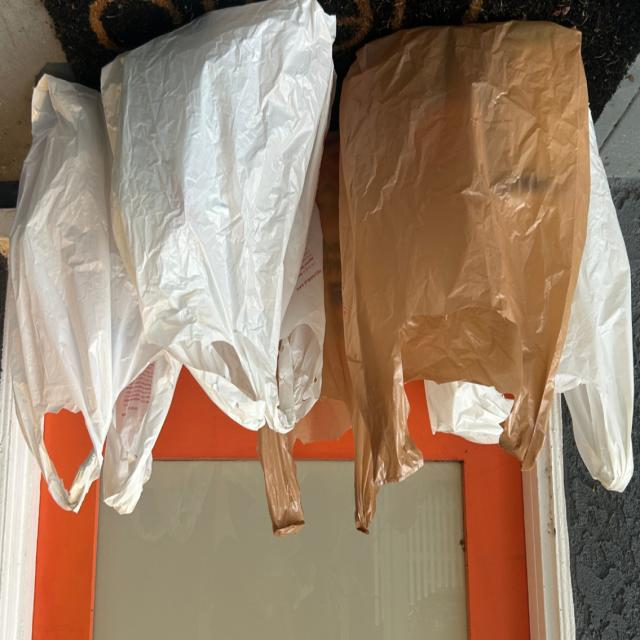Single-layer Plastic: (340, 22, 590, 484), (101, 0, 335, 434), (8, 76, 181, 513), (258, 135, 379, 536), (555, 117, 634, 491), (425, 380, 514, 444)
